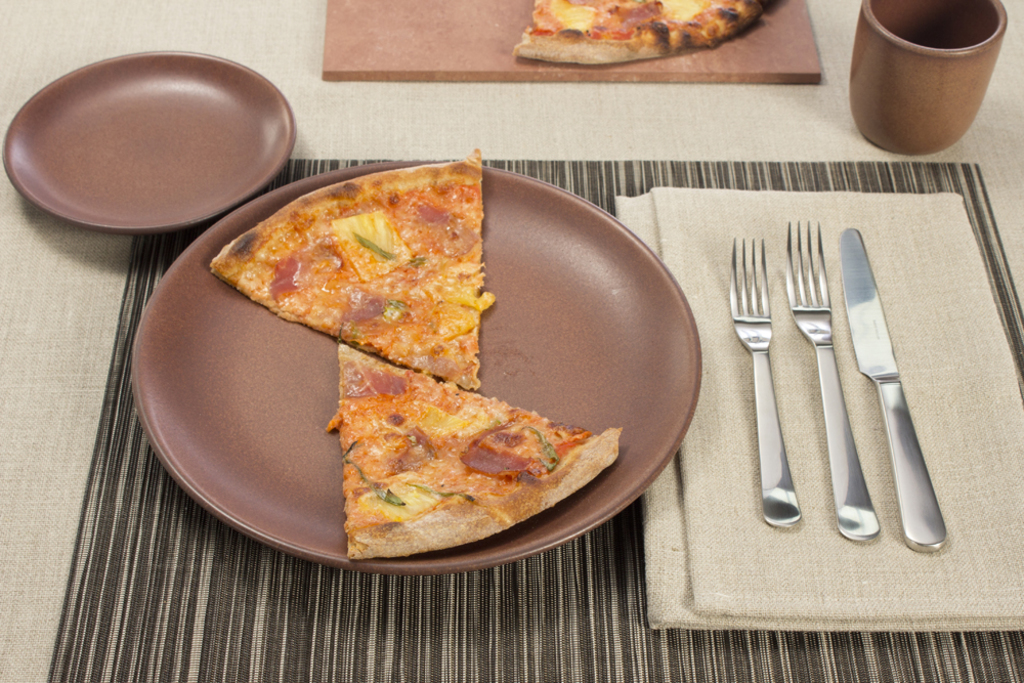pizza: (210, 145, 500, 391), (307, 377, 615, 541), (513, 0, 771, 65)
